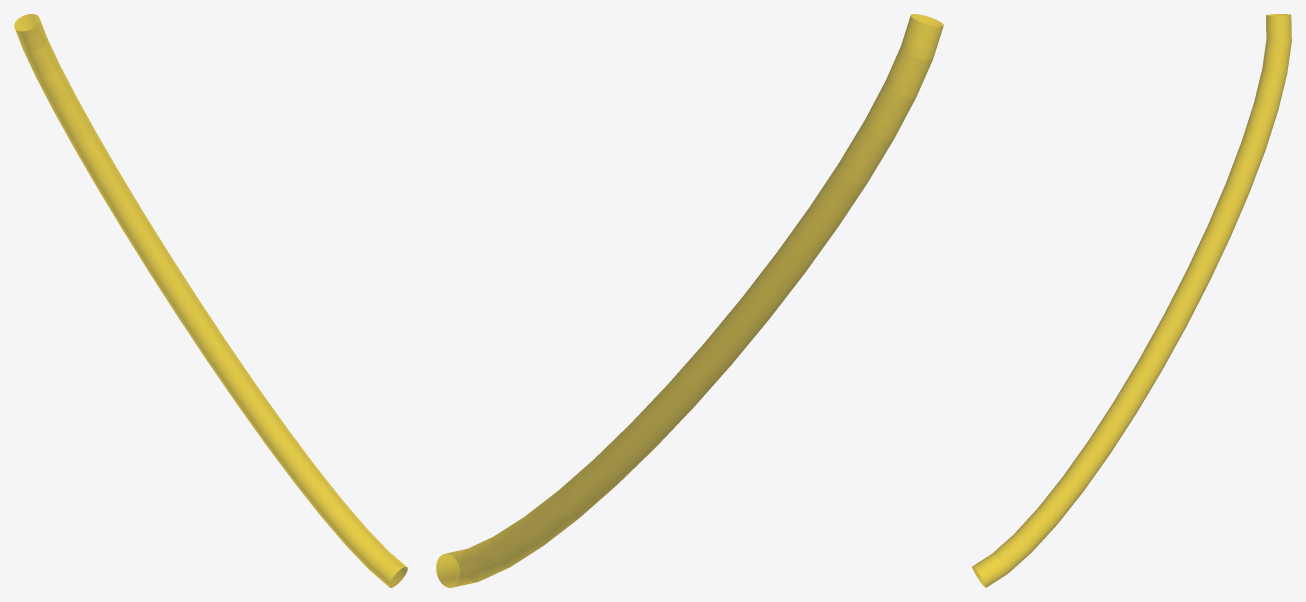
The model's file is Event_84804159_track_62.fbx.
3 renders of one model, left to right at view 1: azimuth 30°, elevation 25°; view 2: azimuth 210°, elevation 25°; view 3: azimuth 270°, elevation 25°, orthographic. The views are drawn at different scales.
Visible parts, largest first — view 1: Model; view 2: Model; view 3: Model.
Part boxes in pixels (<box>): Model: <box>14,14,407,587</box>; Model: <box>436,14,943,587</box>; Model: <box>972,14,1291,587</box>.
Size of the model in its own units: 0.4013 by 0.8261 by 0.5004.
